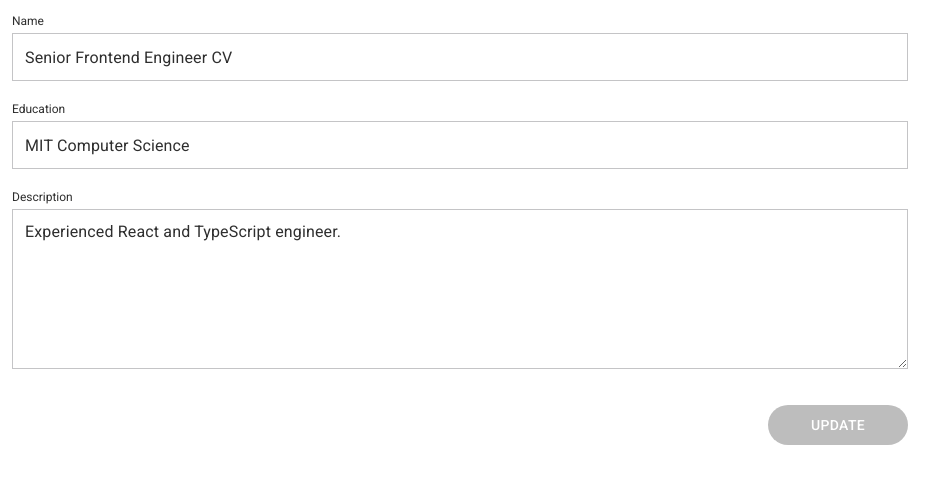
Test: CVDetailsView Component › validates required name field on submission
Clear the field labelled "Name" at (460, 57), box [12, 33, 908, 81]
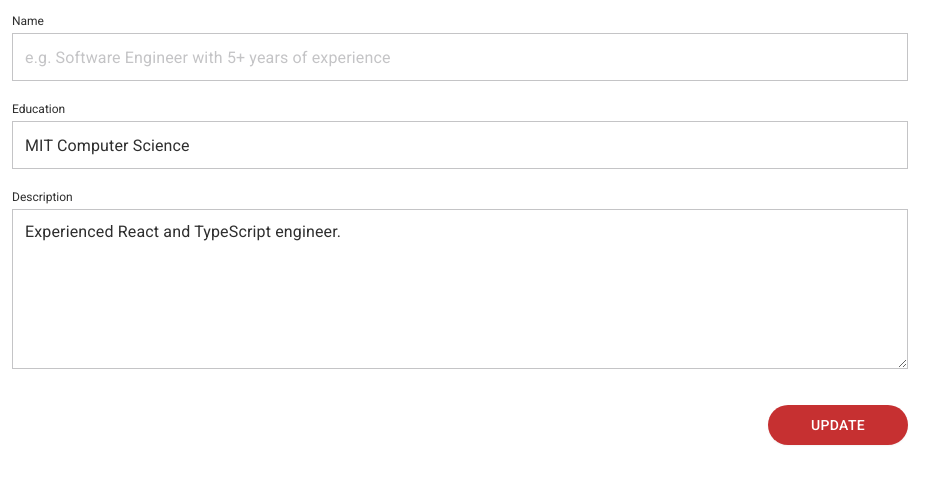
Click the button "Update" at (838, 425), box [768, 405, 908, 445]
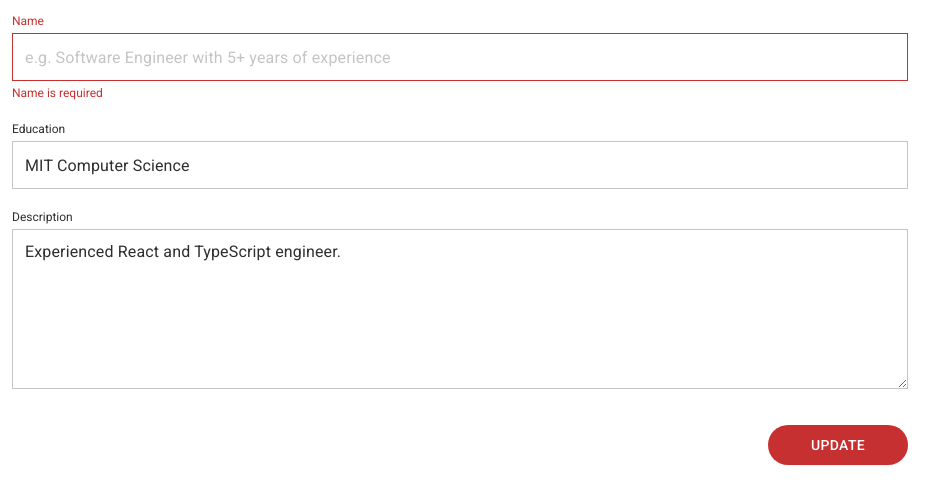
Result: the text "Name is required" is shown at [12, 86, 103, 100]
